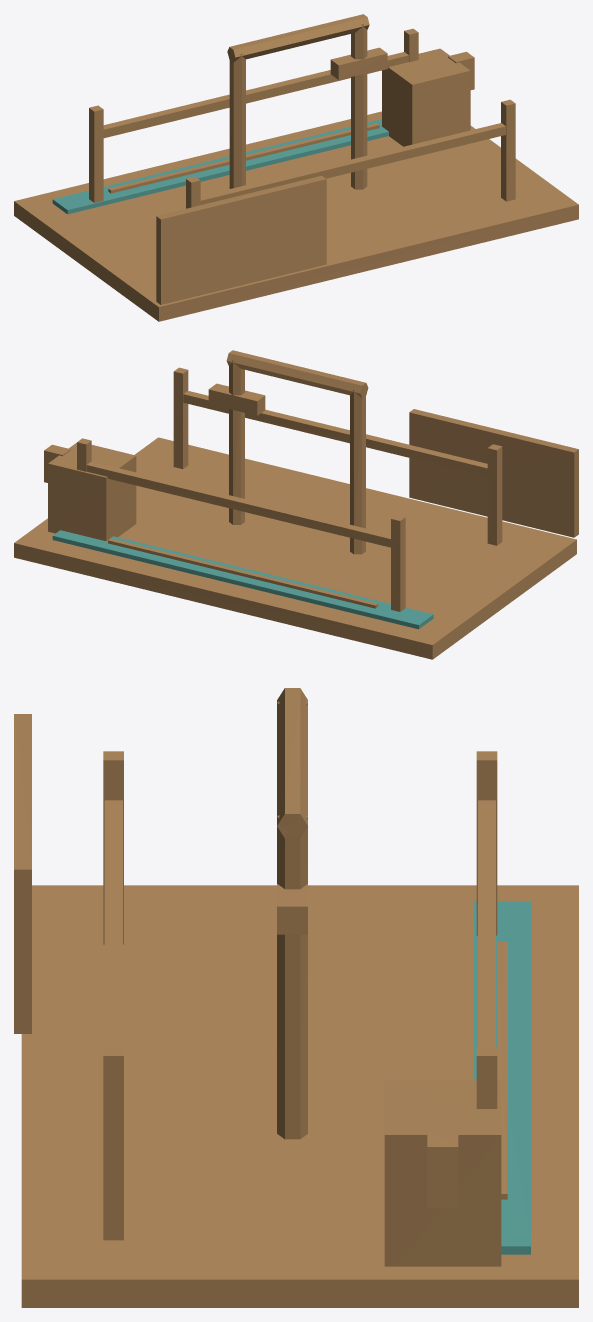
Rendered from Animal-Wash-Station.glb.
3 views of the same model, one above another, from view 1: azimuth 30°, elevation 25°; view 2: azimuth 150°, elevation 25°; view 3: azimuth 270°, elevation 25° (orthographic). The views are drawn at different scales.
Visible parts, largest first — view 1: wind-pump-static-animal-wash-station-non-slip-pad, wind-pump-static-animal-wash-station-dark-rail, wind-pump-static-animal-wash-station-gate, wind-pump-static-animal-wash-station-pump-cabinet, wind-pump-static-animal-wash-station-drainage-blue-gray; view 2: wind-pump-static-animal-wash-station-non-slip-pad, wind-pump-static-animal-wash-station-dark-rail, wind-pump-static-animal-wash-station-gate, wind-pump-static-animal-wash-station-pump-cabinet, wind-pump-static-animal-wash-station-drainage-blue-gray; view 3: wind-pump-static-animal-wash-station-non-slip-pad, wind-pump-static-animal-wash-station-dark-rail, wind-pump-static-animal-wash-station-pump-cabinet, wind-pump-static-animal-wash-station-drainage-blue-gray, wind-pump-static-animal-wash-station-gate.
Part boxes in pixels (bbox=[...]): wind-pump-static-animal-wash-station-non-slip-pad: bbox=[14, 111, 578, 321]; wind-pump-static-animal-wash-station-dark-rail: bbox=[89, 14, 515, 208]; wind-pump-static-animal-wash-station-gate: bbox=[156, 175, 326, 304]; wind-pump-static-animal-wash-station-pump-cabinet: bbox=[382, 48, 470, 146]; wind-pump-static-animal-wash-station-drainage-blue-gray: bbox=[52, 119, 388, 214]; wind-pump-static-animal-wash-station-non-slip-pad: bbox=[14, 437, 576, 659]; wind-pump-static-animal-wash-station-dark-rail: bbox=[44, 350, 502, 611]; wind-pump-static-animal-wash-station-gate: bbox=[409, 409, 578, 537]; wind-pump-static-animal-wash-station-pump-cabinet: bbox=[48, 442, 136, 540]; wind-pump-static-animal-wash-station-drainage-blue-gray: bbox=[52, 530, 433, 629]; wind-pump-static-animal-wash-station-non-slip-pad: bbox=[21, 885, 578, 1307]; wind-pump-static-animal-wash-station-dark-rail: bbox=[103, 688, 507, 1240]; wind-pump-static-animal-wash-station-pump-cabinet: bbox=[384, 1080, 501, 1266]; wind-pump-static-animal-wash-station-drainage-blue-gray: bbox=[474, 901, 530, 1254]; wind-pump-static-animal-wash-station-gate: bbox=[14, 714, 31, 1033].
Bounding box in the file's own units: 3.61 × 1.53 × 2.18.
